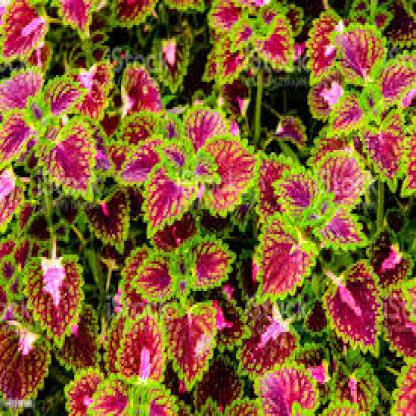Bunga Coleus: (15, 10, 404, 388)
